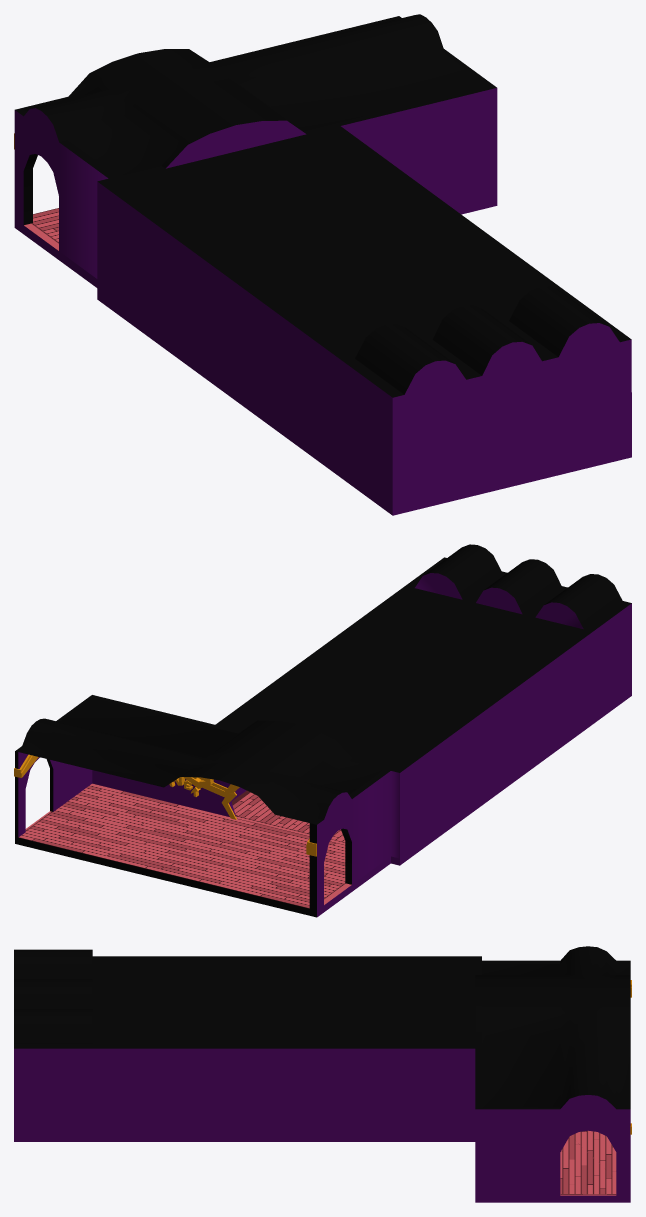
File: bowling_alley_frame.fbx
3 renders of one model, top to bottom at view 1: azimuth 30°, elevation 25°; view 2: azimuth 150°, elevation 25°; view 3: azimuth 270°, elevation 25°, orthographic. The views are drawn at different scales.
Visible parts, largest first — view 1: roof_bowling_alley_frame, walls_bowling_alley_frame, woodFloor_bowling_alley_frame, doorFrames_bowling_alley_frame; view 2: roof_bowling_alley_frame, walls_bowling_alley_frame, woodFloor_bowling_alley_frame, Wall Mount Sign, doorFrames_bowling_alley_frame; view 3: roof_bowling_alley_frame, walls_bowling_alley_frame, woodFloor_bowling_alley_frame.
Part boxes in pixels (box(x1,y1,x2,y2)): roof_bowling_alley_frame: box(15, 14, 631, 397); walls_bowling_alley_frame: box(14, 88, 631, 515); woodFloor_bowling_alley_frame: box(24, 208, 58, 250); doorFrames_bowling_alley_frame: box(23, 154, 37, 224); roof_bowling_alley_frame: box(15, 544, 631, 824); walls_bowling_alley_frame: box(15, 603, 631, 917); woodFloor_bowling_alley_frame: box(19, 783, 351, 908); Wall Mount Sign: box(14, 754, 316, 856); doorFrames_bowling_alley_frame: box(46, 759, 351, 884); roof_bowling_alley_frame: box(14, 946, 630, 1109); walls_bowling_alley_frame: box(14, 1048, 630, 1202); woodFloor_bowling_alley_frame: box(560, 1130, 616, 1195).
Bounding box in the file's own units: 22.86 × 38.97 × 7.95.
Materials: 5 (1 with a texture image).
